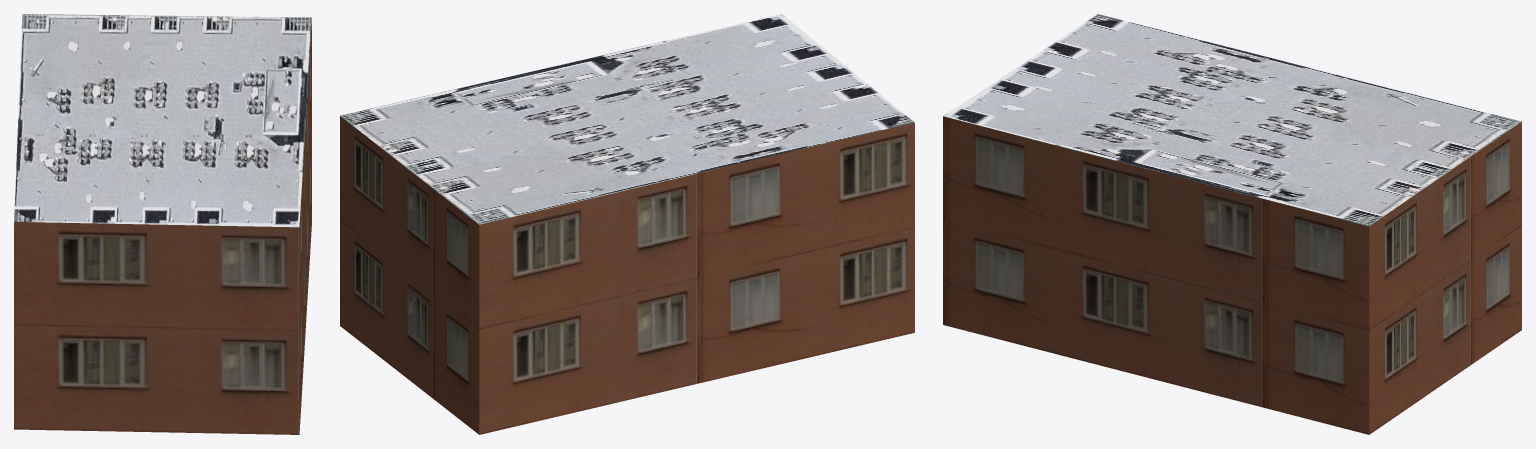
Rendered from ResTex__2770.fbx.
The picture shows the model from 3 angles, left to right: view 1: azimuth 30°, elevation 25°; view 2: azimuth 150°, elevation 25°; view 3: azimuth 270°, elevation 25°; orthographic projection.
Parts seen in each view (by area): view 1: CityEngineMaterial_20_m, CityEngineMaterial_8_m; view 2: CityEngineMaterial_20_m, CityEngineMaterial_8_m; view 3: CityEngineMaterial_20_m, CityEngineMaterial_8_m.
Boxes of the visible parts, x1,y1,x2,y2 form: CityEngineMaterial_20_m: (14, 19, 311, 434); CityEngineMaterial_8_m: (14, 14, 311, 227); CityEngineMaterial_20_m: (340, 116, 914, 434); CityEngineMaterial_8_m: (340, 14, 914, 224); CityEngineMaterial_20_m: (943, 116, 1521, 434); CityEngineMaterial_8_m: (943, 14, 1521, 225).
Size of the model in its own units: 13.09 by 6 by 15.08.
Materials: 2 (2 with a texture image).
